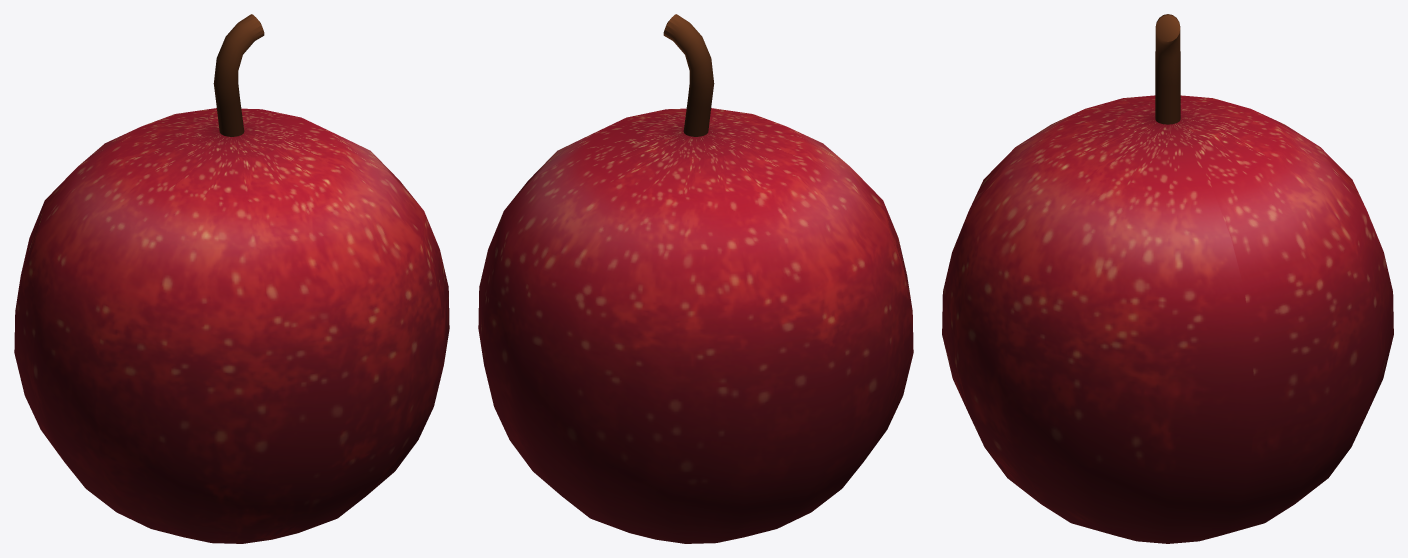
File: PassionFruit_Red.fbx
The picture shows the model from 3 angles, left to right: view 1: azimuth 30°, elevation 25°; view 2: azimuth 150°, elevation 25°; view 3: azimuth 270°, elevation 25°; orthographic projection. The views are drawn at different scales.
Visible parts, largest first — view 1: PassionFruit_Red; view 2: PassionFruit_Red; view 3: PassionFruit_Red.
Boxes of the visible parts, <box> form: PassionFruit_Red: <box>14,14,449,543</box>; PassionFruit_Red: <box>478,14,913,543</box>; PassionFruit_Red: <box>942,14,1393,543</box>.
Size of the model in its own units: 33.57 by 42.65 by 33.57.
